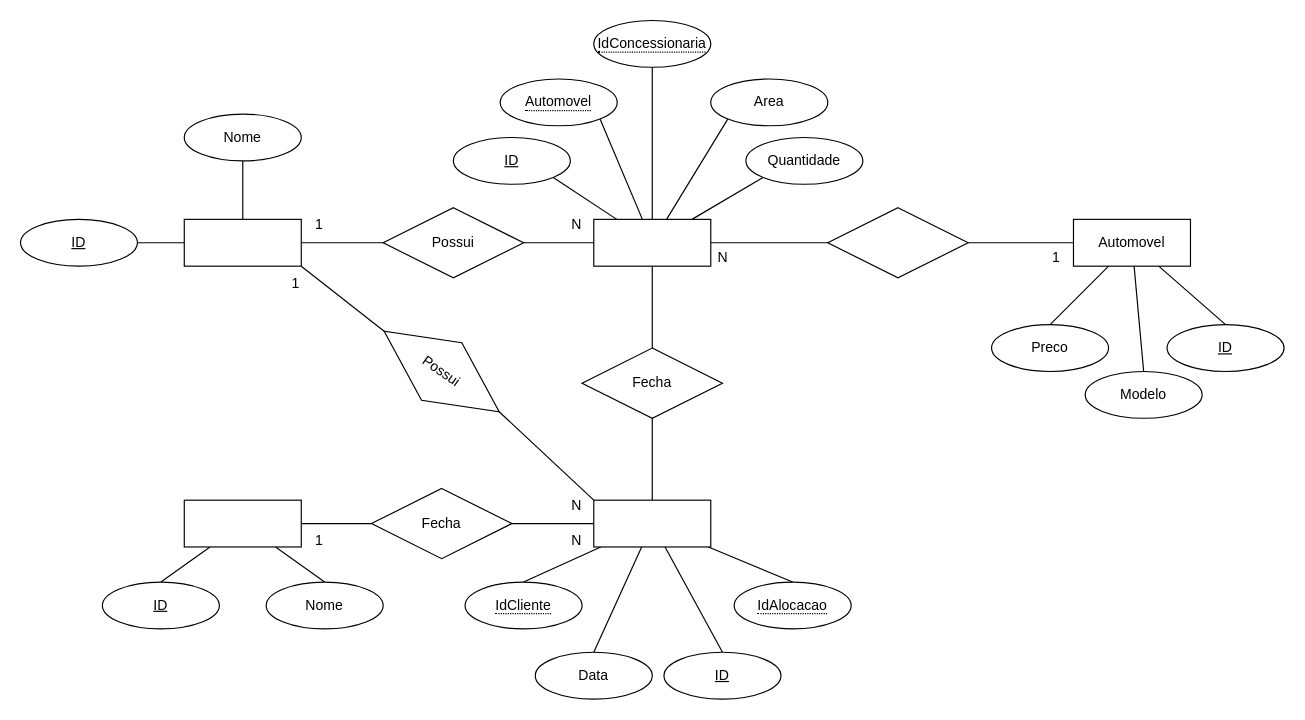
Some shapes in this 1305 by 720 pixel diagram are drawn without their labels. Here are the shapes that lost their labels. From the top down, the centre of each, then its label:
(x=242, y=242): Concessionaria
(x=652, y=242): Alocacao
(x=897, y=242): Contém
(x=242, y=523): Cliente
(x=652, y=523): Venda
